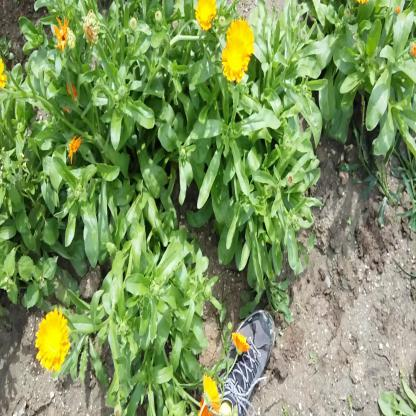marigold: (35, 310, 69, 370), (224, 19, 254, 63), (222, 41, 247, 80), (198, 375, 220, 411), (195, 0, 217, 30)
